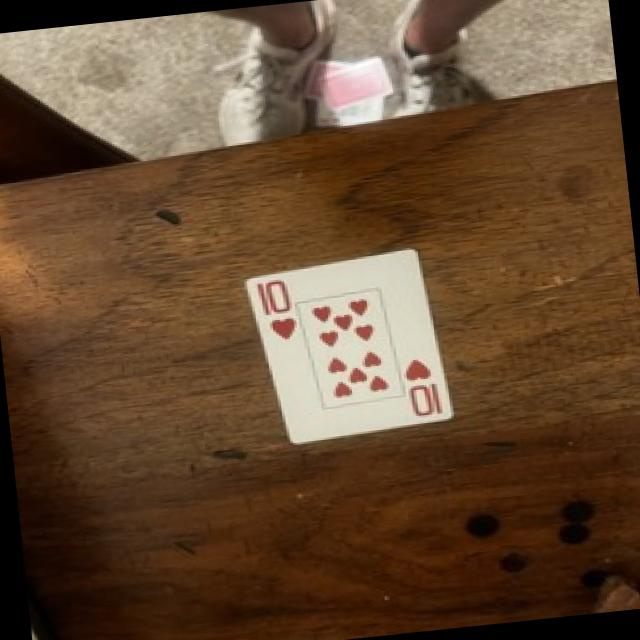10 of hearts: (245, 249, 451, 440)
